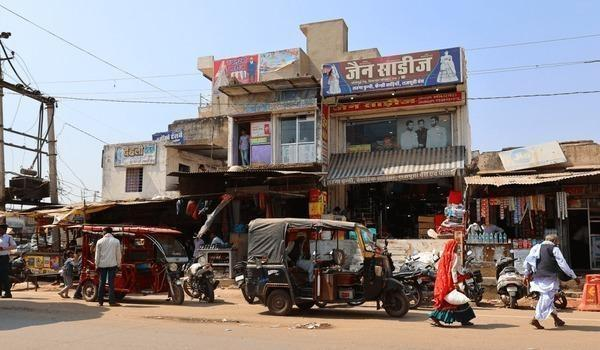keke: (250, 214, 393, 318)
